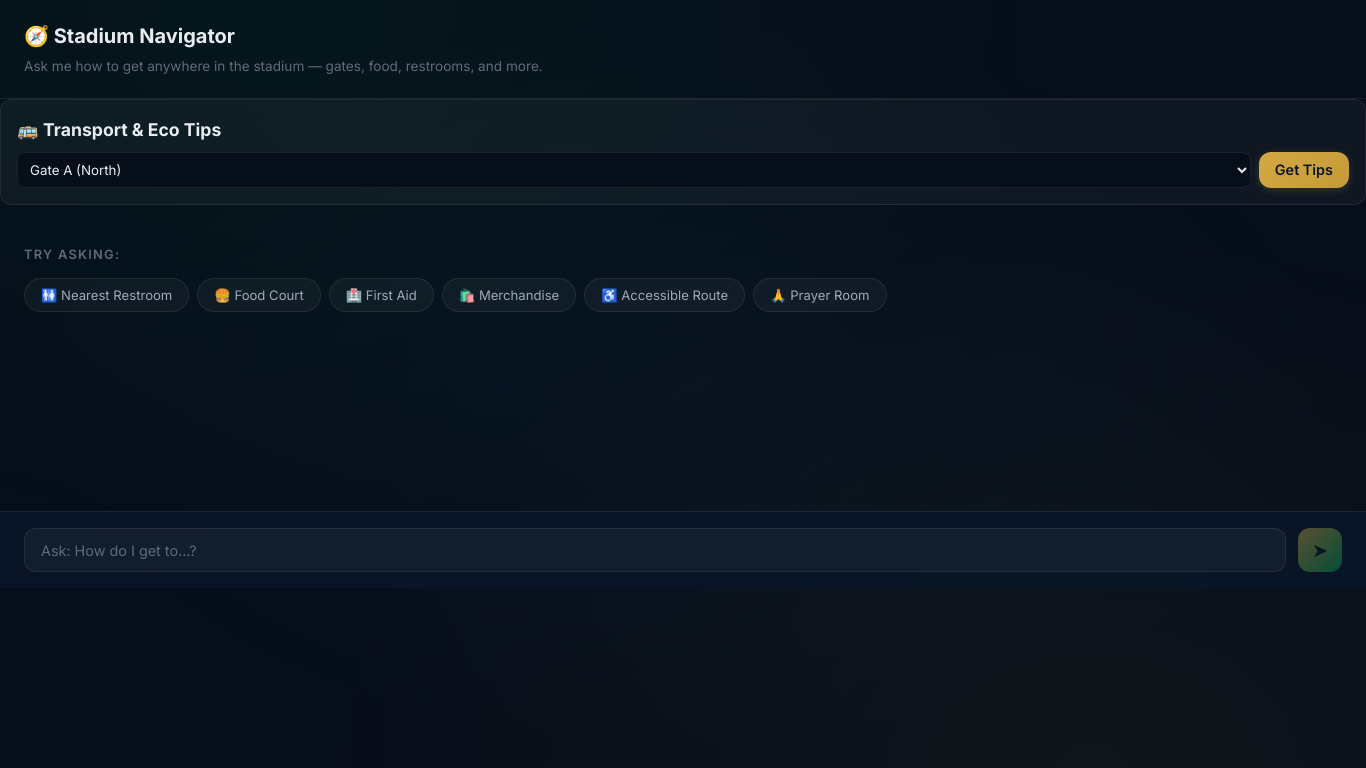
NavigationChat › enables send button when input has text
Step 1. Type "Where is Gate A?" into the field with placeholder "Ask: How do I get to...?" → x=655, y=550, box [24,528,1286,572]
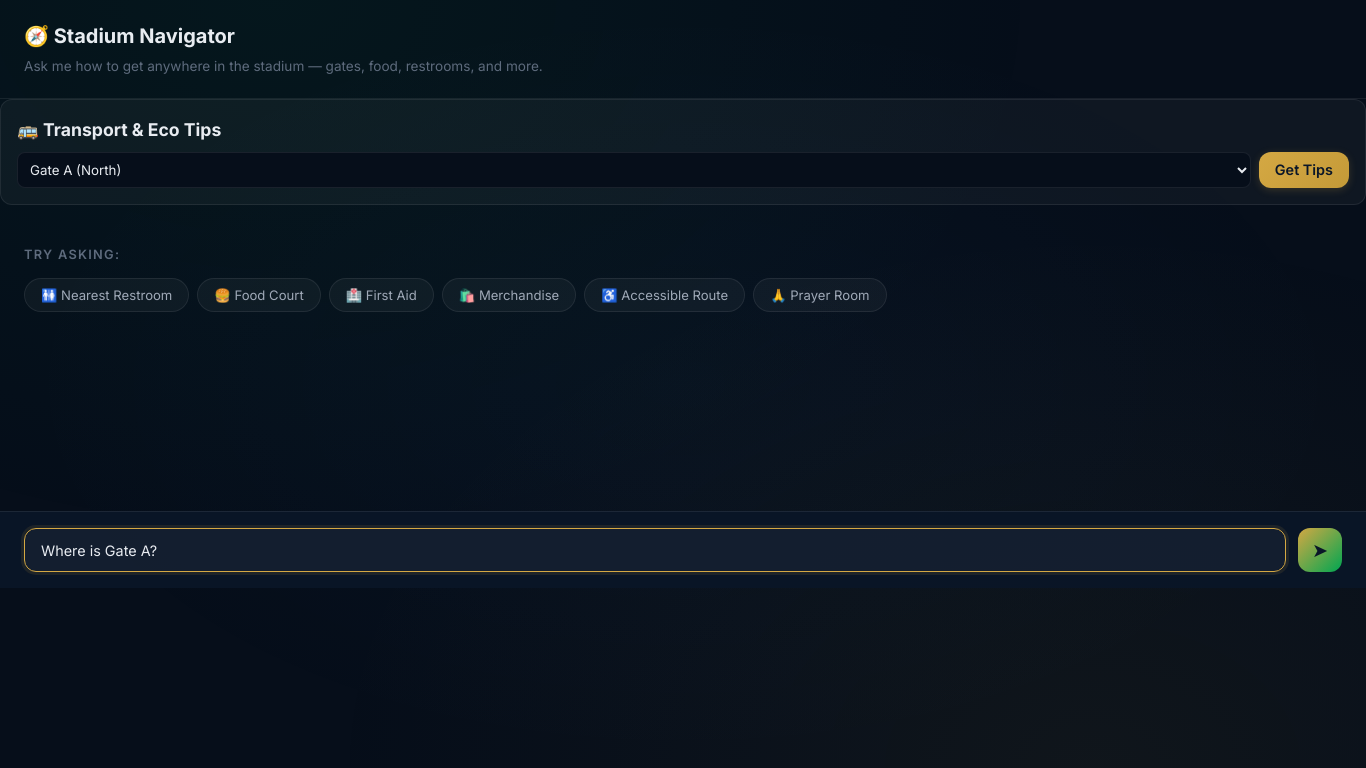
Expected: the button named "Send message" is enabled, [1298,528,1342,572]
